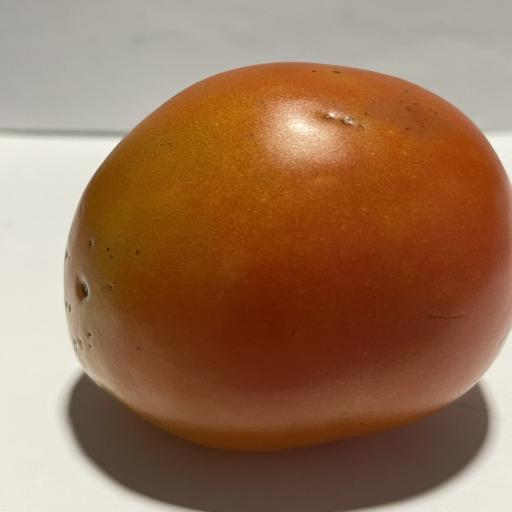ripe: (65, 63, 512, 450)
